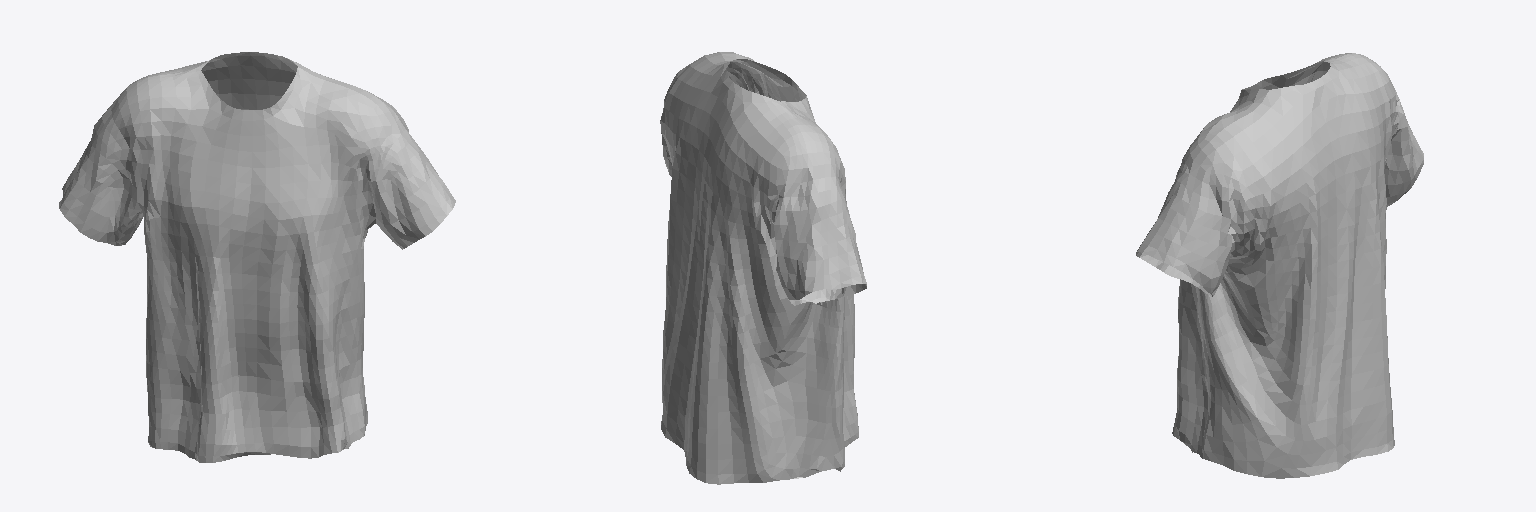
Rendered from Tee black 3d.obj.
3 renders of one model, left to right at view 1: azimuth 30°, elevation 25°; view 2: azimuth 150°, elevation 25°; view 3: azimuth 270°, elevation 25°, orthographic.
Parts seen in each view (by area): view 1: Radju121_obj.002; view 2: Radju121_obj.002; view 3: Radju121_obj.002.
Boxes of the visible parts, box(x1,y1,x2,y2) form: Radju121_obj.002: box(59, 52, 455, 462); Radju121_obj.002: box(660, 52, 866, 484); Radju121_obj.002: box(1136, 53, 1423, 478).
Size of the model in its own units: 13.34 by 16.34 by 11.46.